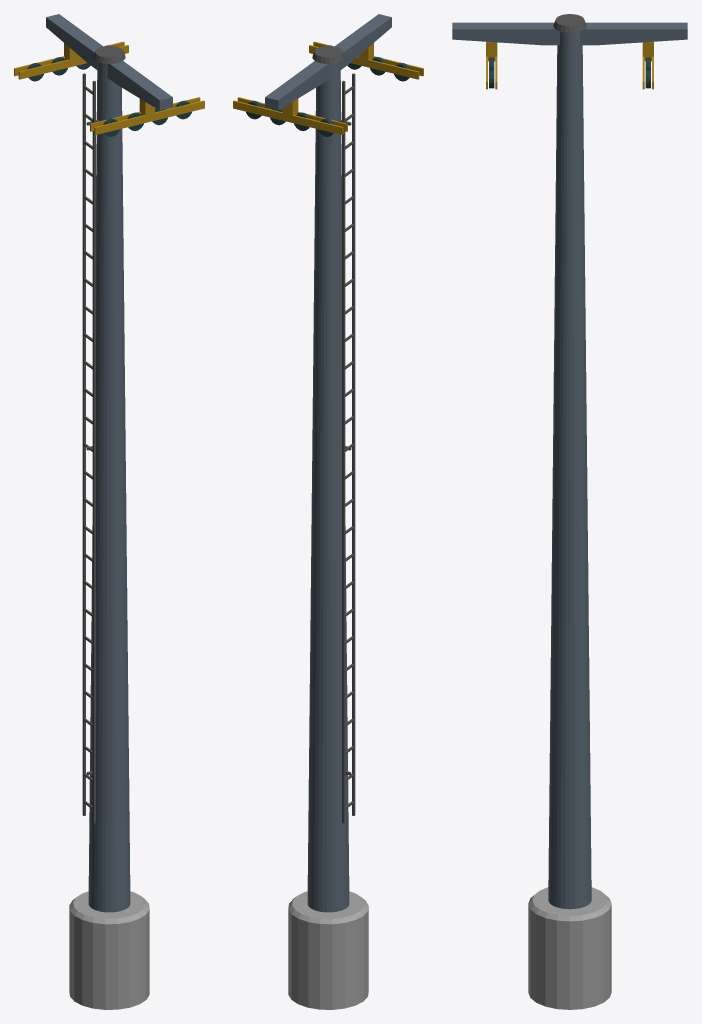
Rendered from tower.obj.
3 views of the same model, side by side, from view 1: azimuth 30°, elevation 25°; view 2: azimuth 150°, elevation 25°; view 3: azimuth 270°, elevation 25° (orthographic). The views are drawn at different scales.
Size of the model in its own units: 2.5 by 20.54 by 4.5.
